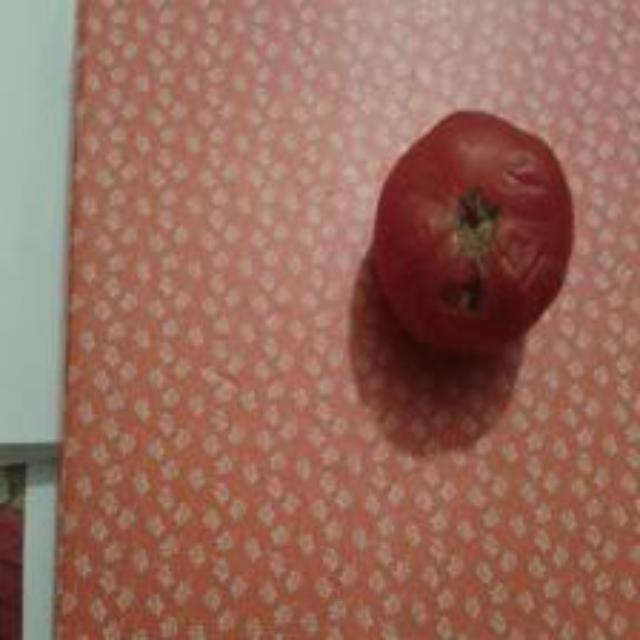defect: (364, 107, 584, 361)
